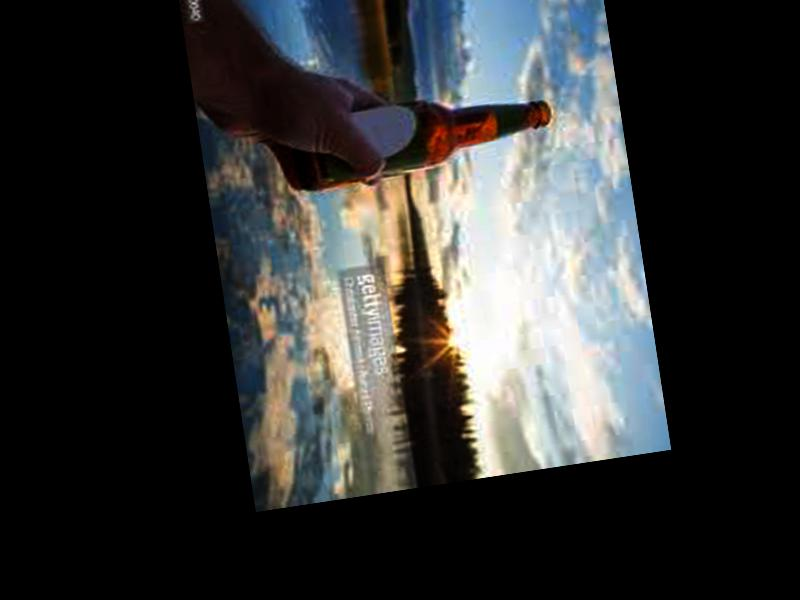Beer: (291, 79, 559, 196)
